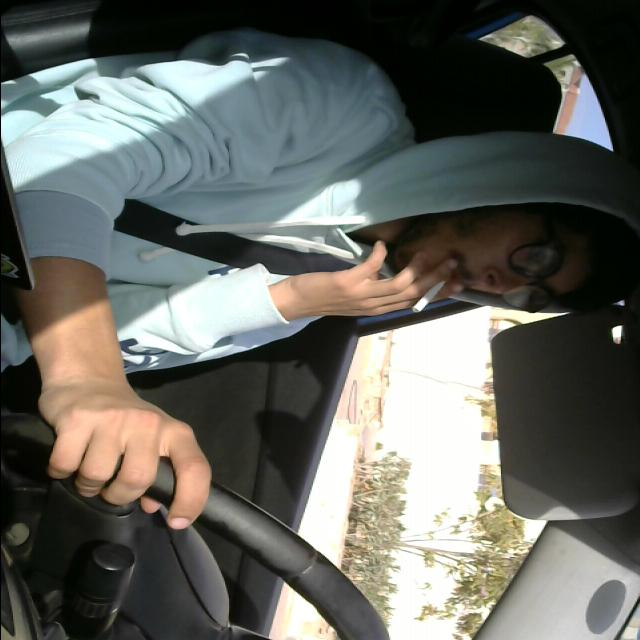smoking: (402, 255, 458, 317)
